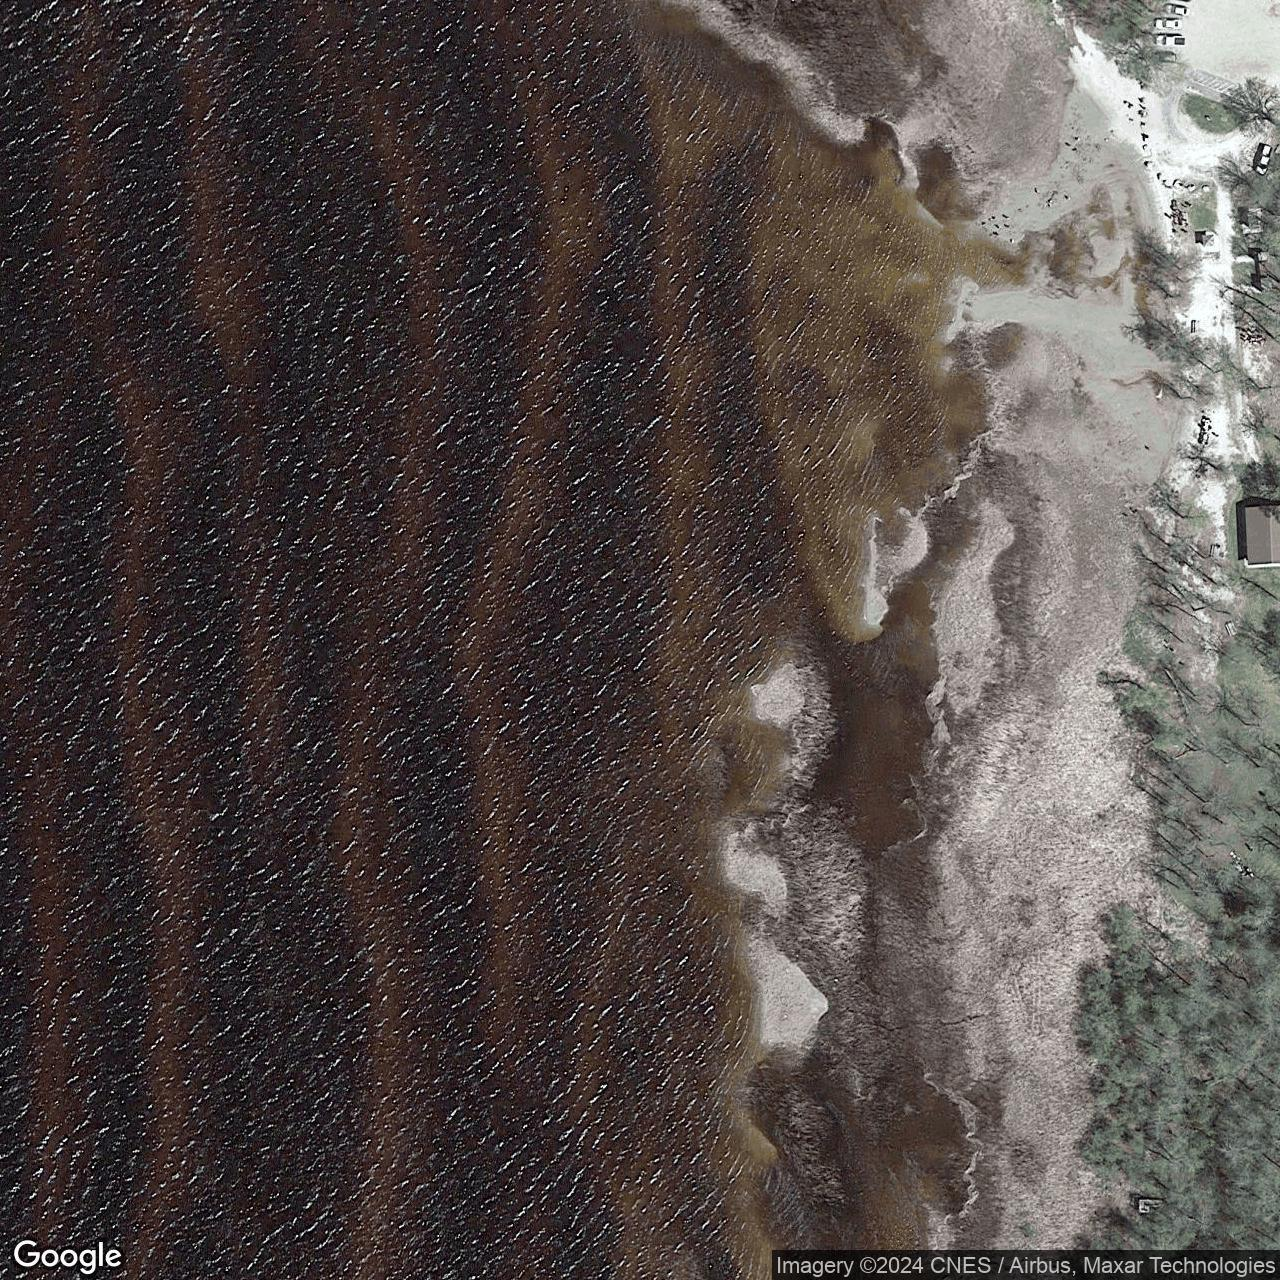House: (1244, 505, 1280, 564)
